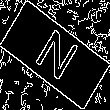N_SW: (28, 23, 82, 87)
